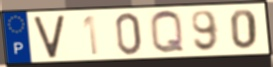0: (113, 11, 145, 57), (228, 8, 258, 51)
1: (82, 15, 100, 56)
9: (190, 9, 222, 52)
Q: (148, 9, 187, 56)
V: (32, 13, 66, 60)
